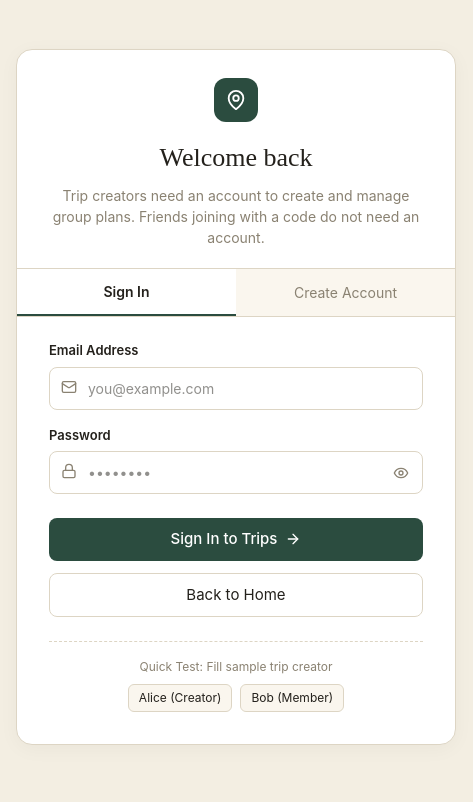
Test case: AuthPage Show Password Feature › resets password visibility to hidden when switching tabs
This screenshot has width=473, height=802.
// Show password in login mode
Click the button named "Show characters": point(401, 472) [389, 460, 413, 484]
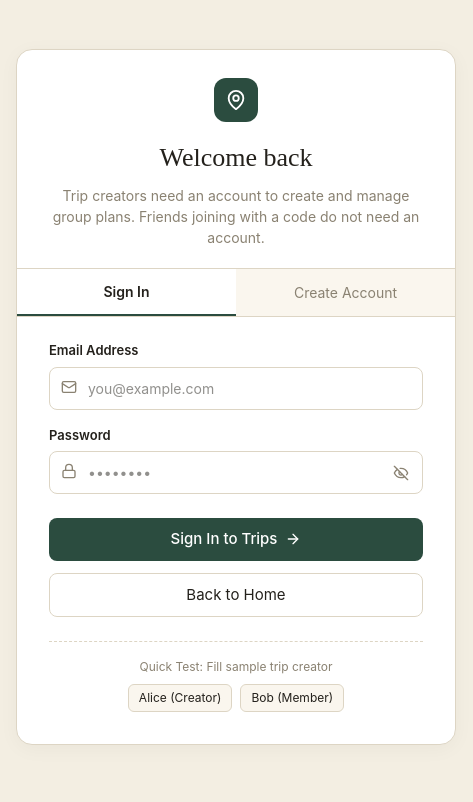
// Switch to Sign Up
Click the button "Create Account": point(346, 292) [236, 269, 455, 316]
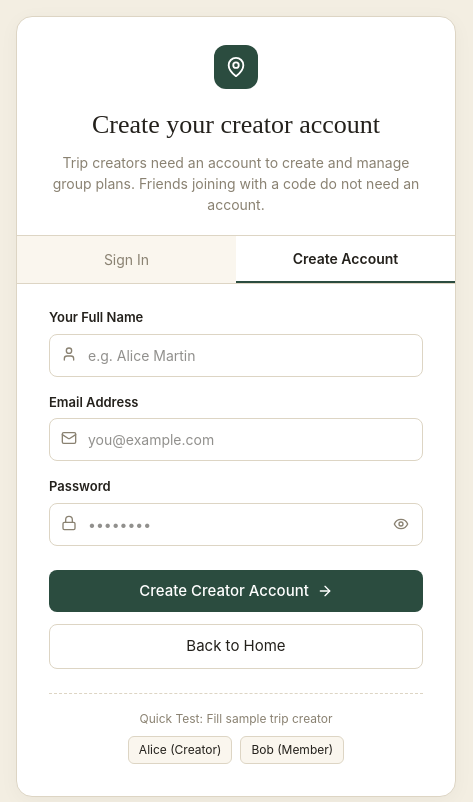
Expected: the button named "Show characters" is shown
// Show password in sign up mode
Click the button named "Show characters": point(401, 524) [389, 512, 413, 536]
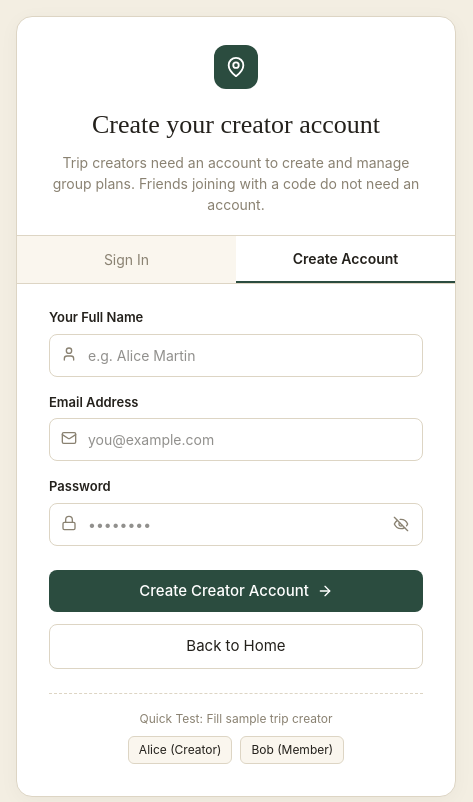
// Switch back to Sign In
Click the button "Sign In": point(126, 260) [17, 236, 236, 283]
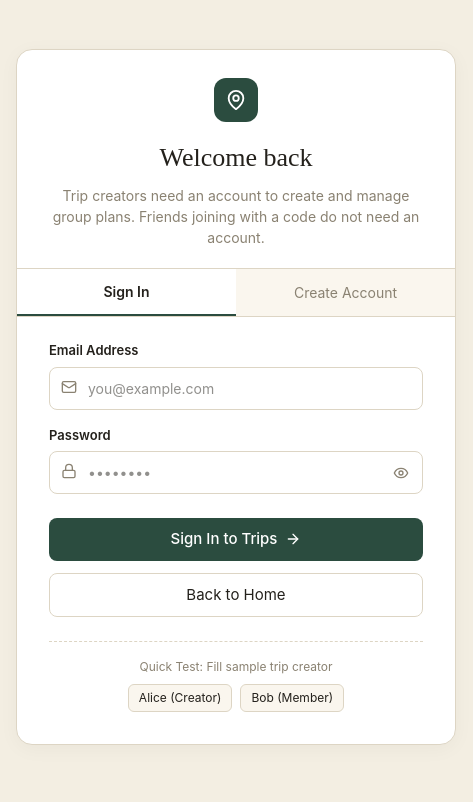
Expected: the button named "Show characters" is shown, [389, 460, 413, 484]
